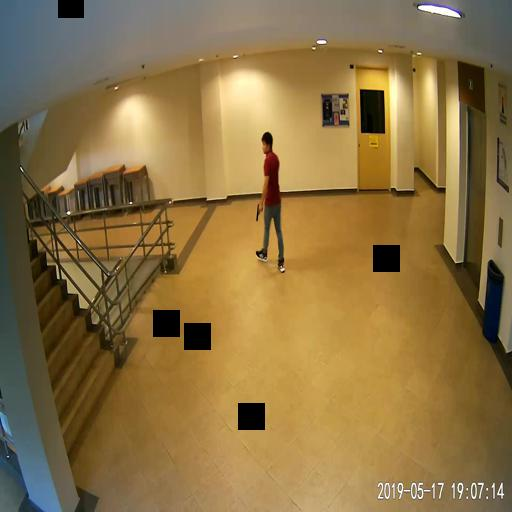Handgun: (255, 203, 261, 219)
